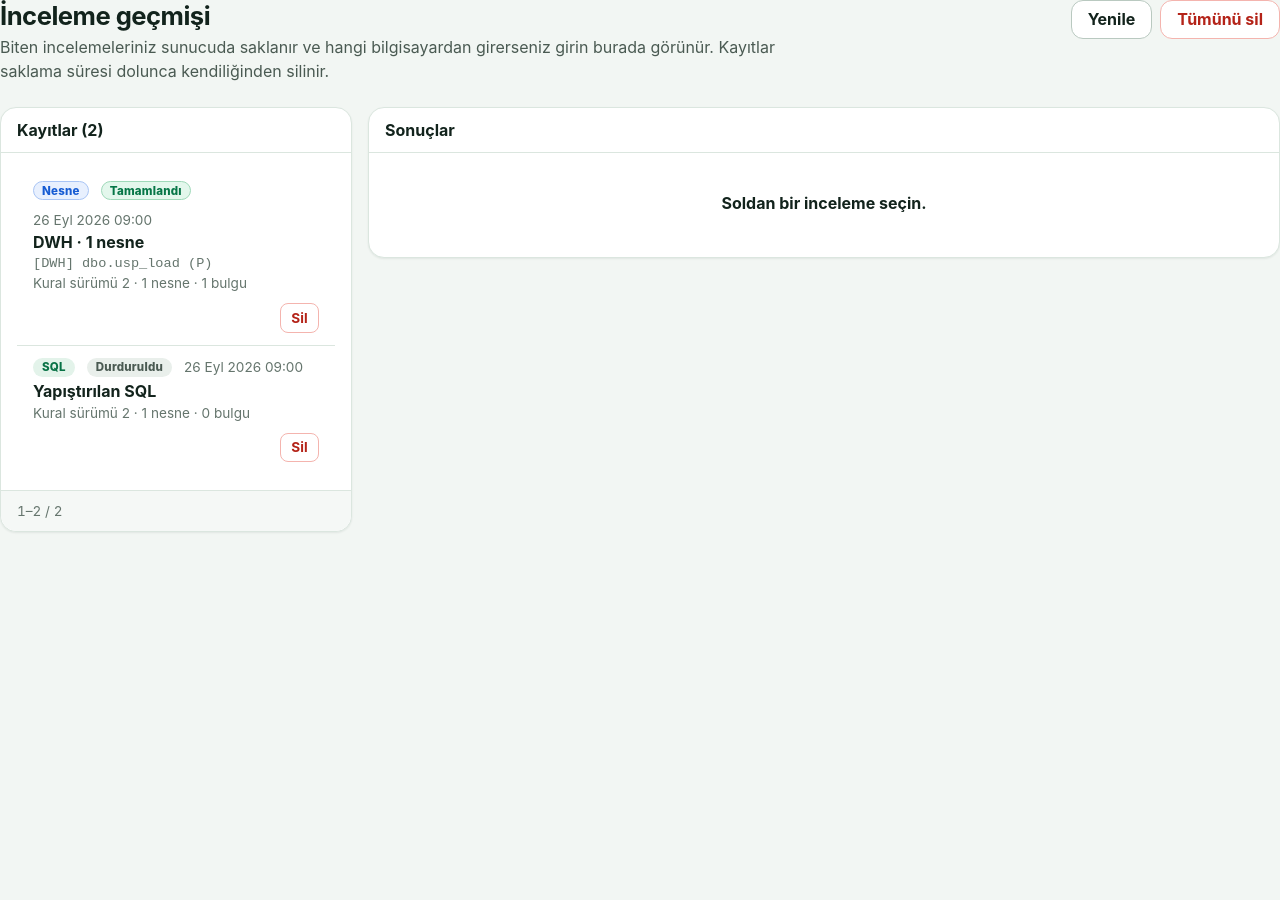
Test: review history page › asks before deleting one run and reloads the list
Click the button with aria-label "DWH · 1 nesne incelemesini sil" at point(299, 318), box [280, 303, 319, 333]
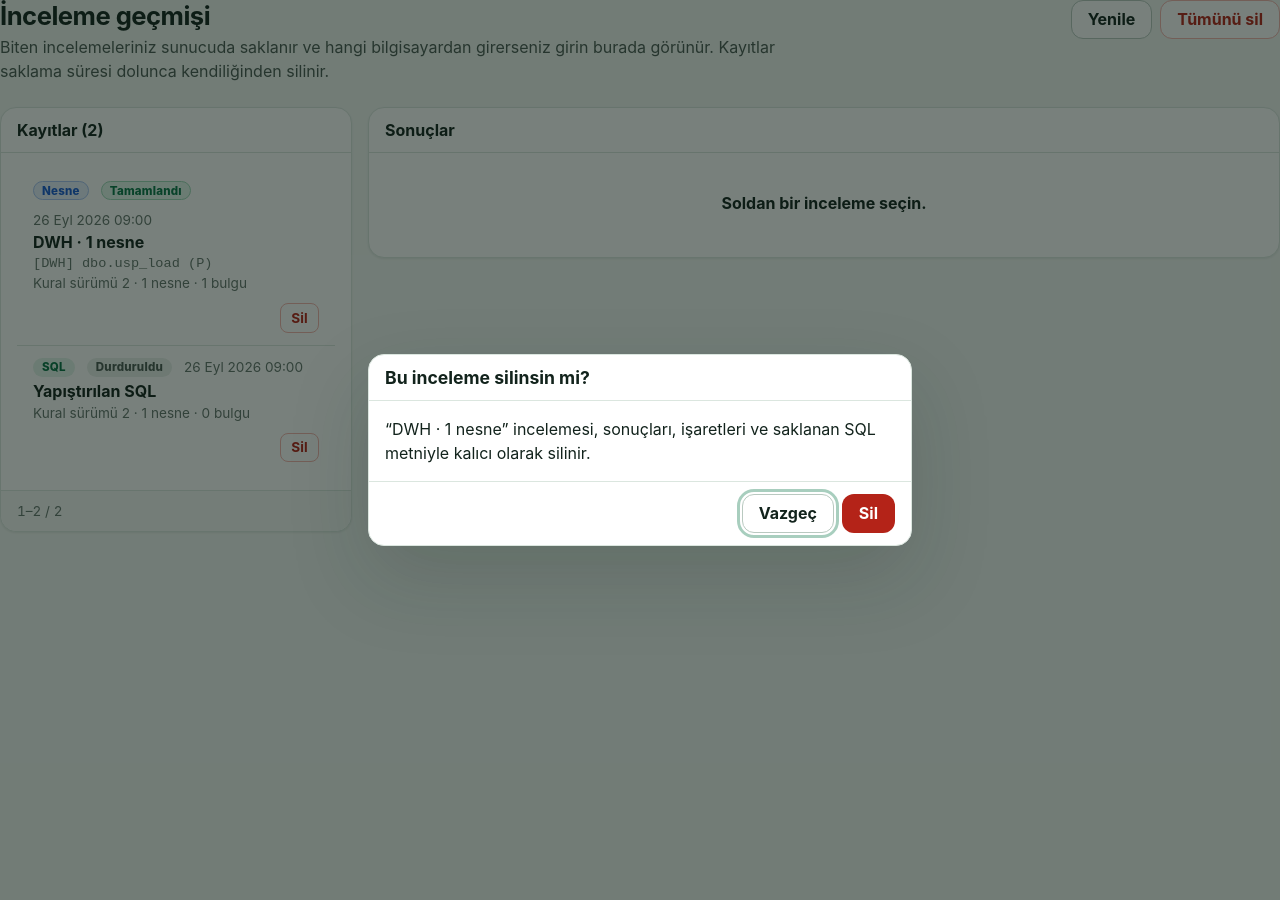
Click the button "Vazgeç" at point(788, 514), box [742, 494, 834, 533]
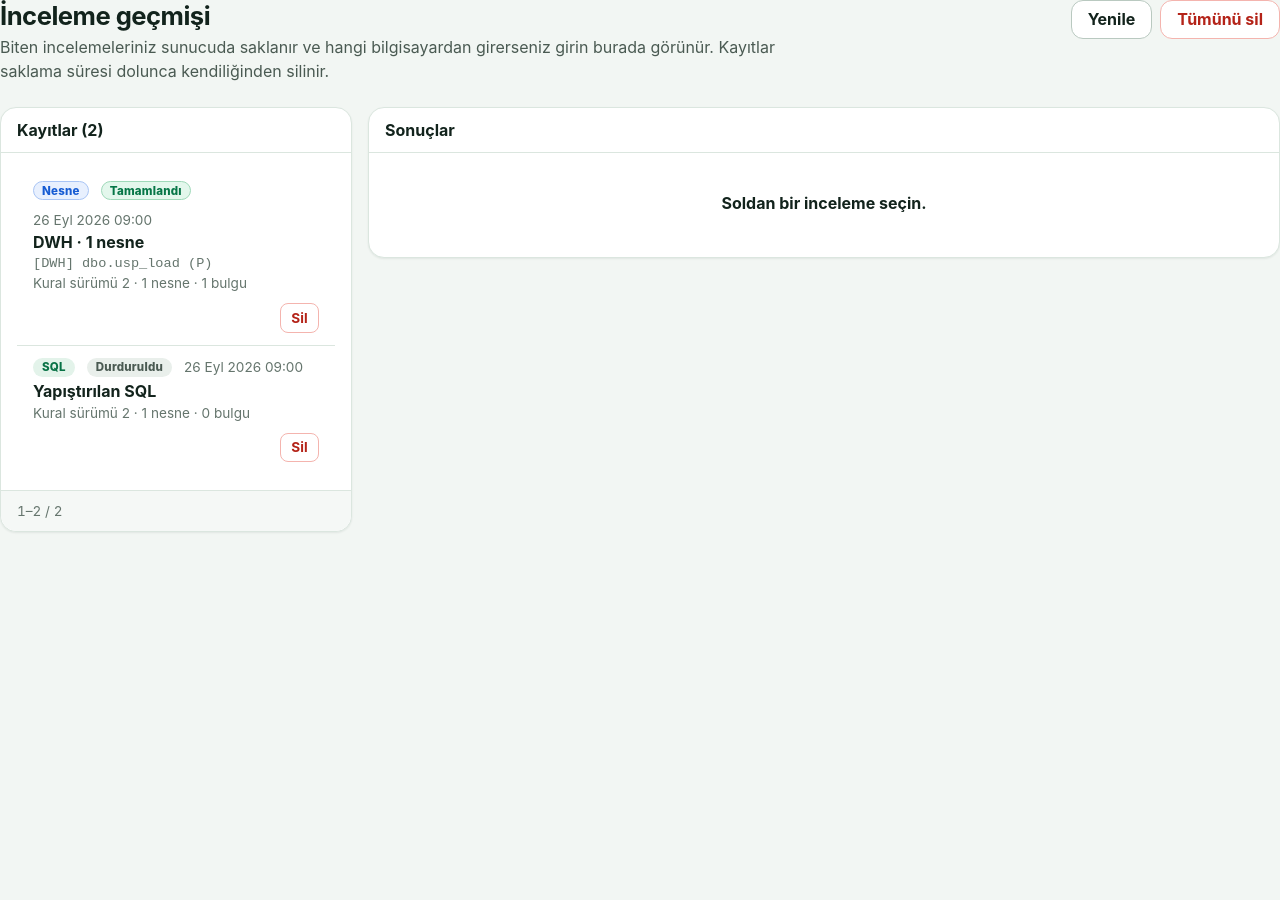
Click the button with aria-label "DWH · 1 nesne incelemesini sil" at point(299, 318), box [280, 303, 319, 333]
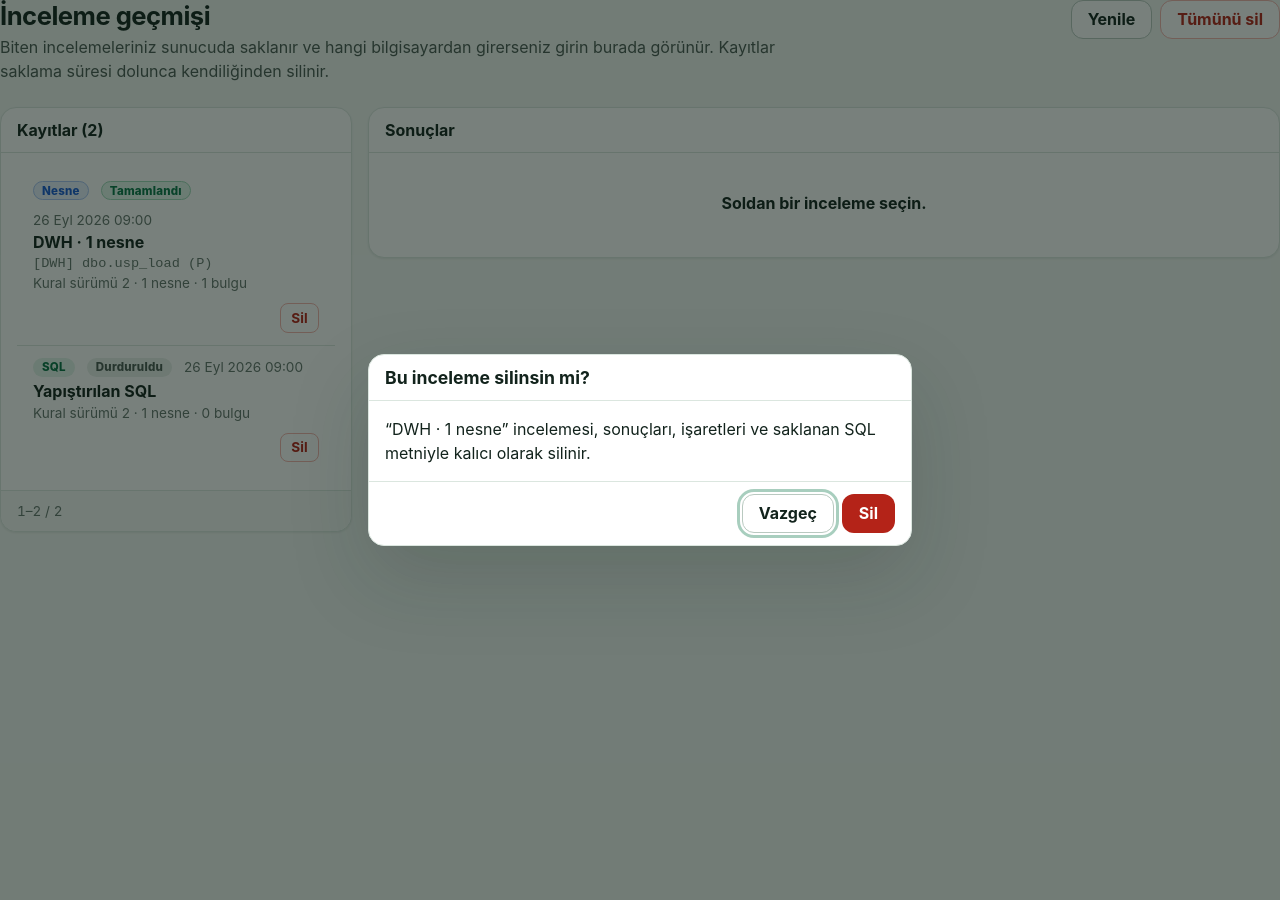
Click the button "Sil" at point(868, 514), box [842, 494, 895, 533]
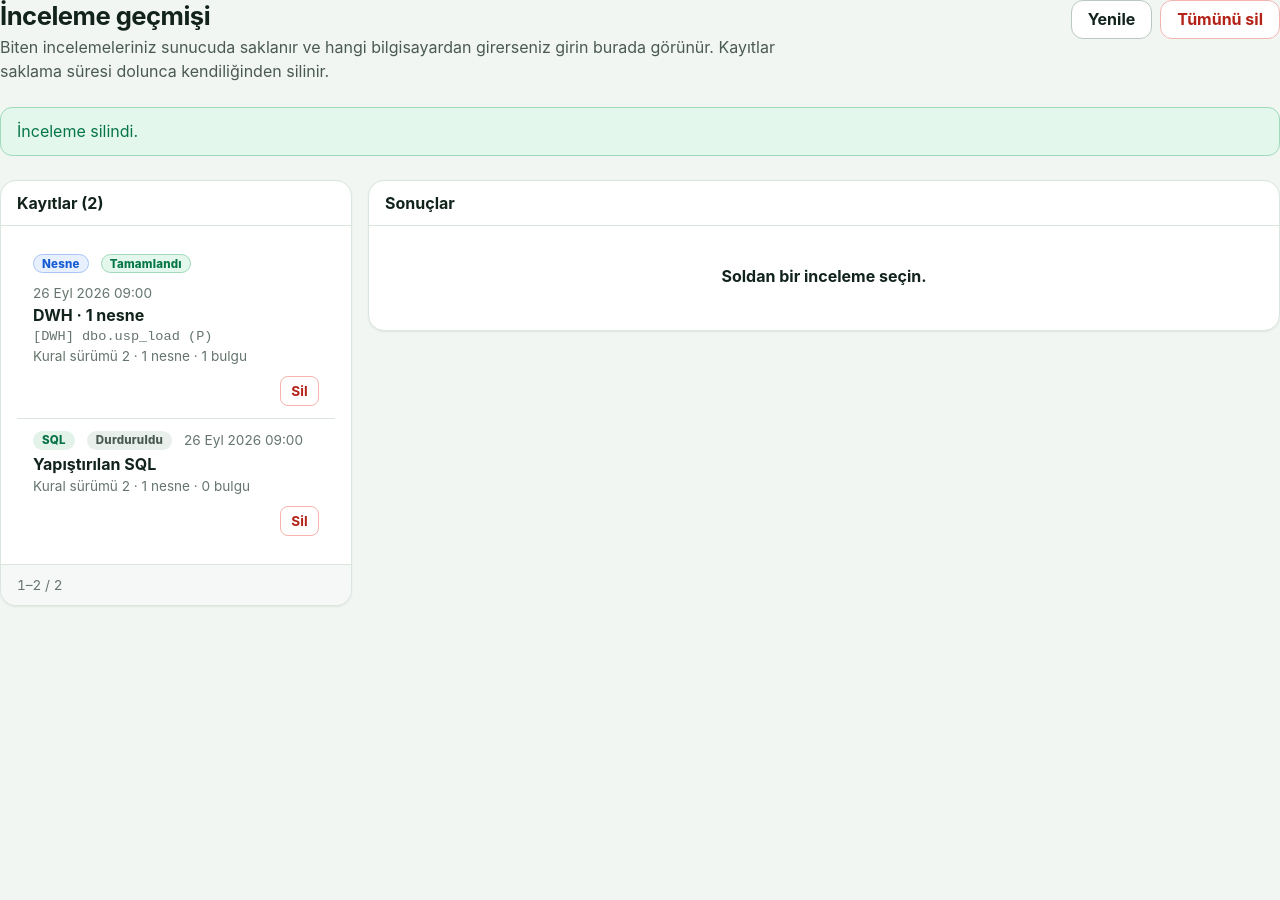
Result: the text "İnceleme silindi." is shown at [0, 107, 1279, 156]
